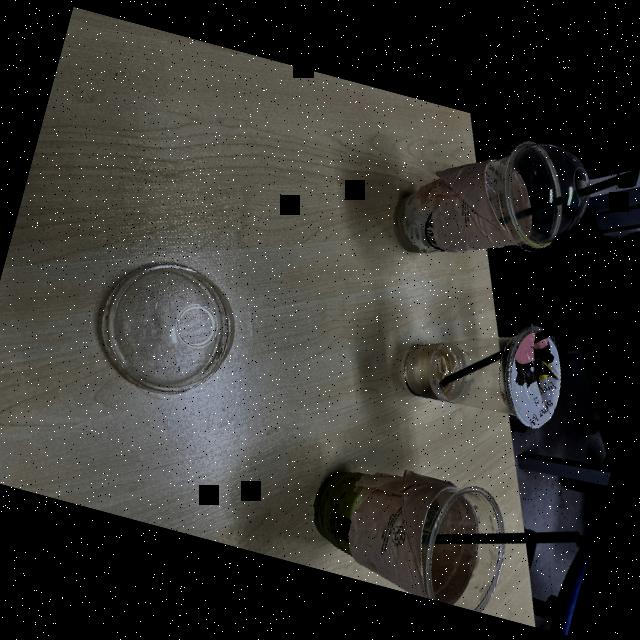plastic_cup: (298, 435, 532, 616), (377, 108, 585, 297), (388, 292, 586, 439)
plastic_cup_lid: (76, 245, 255, 414), (484, 126, 606, 262)
straw: (422, 300, 604, 393), (496, 168, 636, 224), (418, 527, 583, 544)
